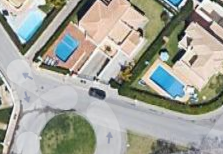pool: (153, 65, 183, 99), (19, 12, 42, 39), (57, 36, 74, 59)
